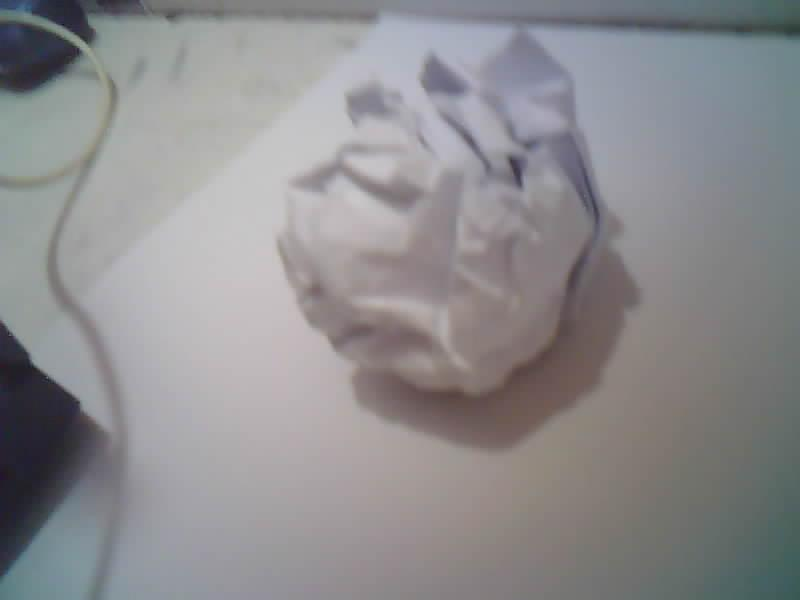biodegradable: (278, 31, 603, 394)
